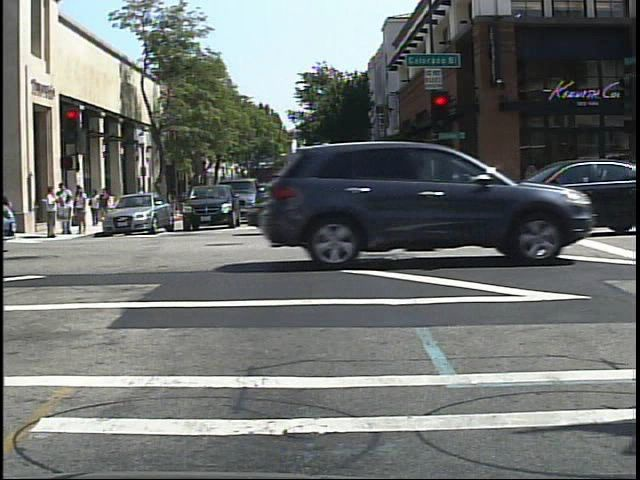person: (134, 183, 152, 218), (89, 187, 104, 228), (165, 182, 182, 218)
